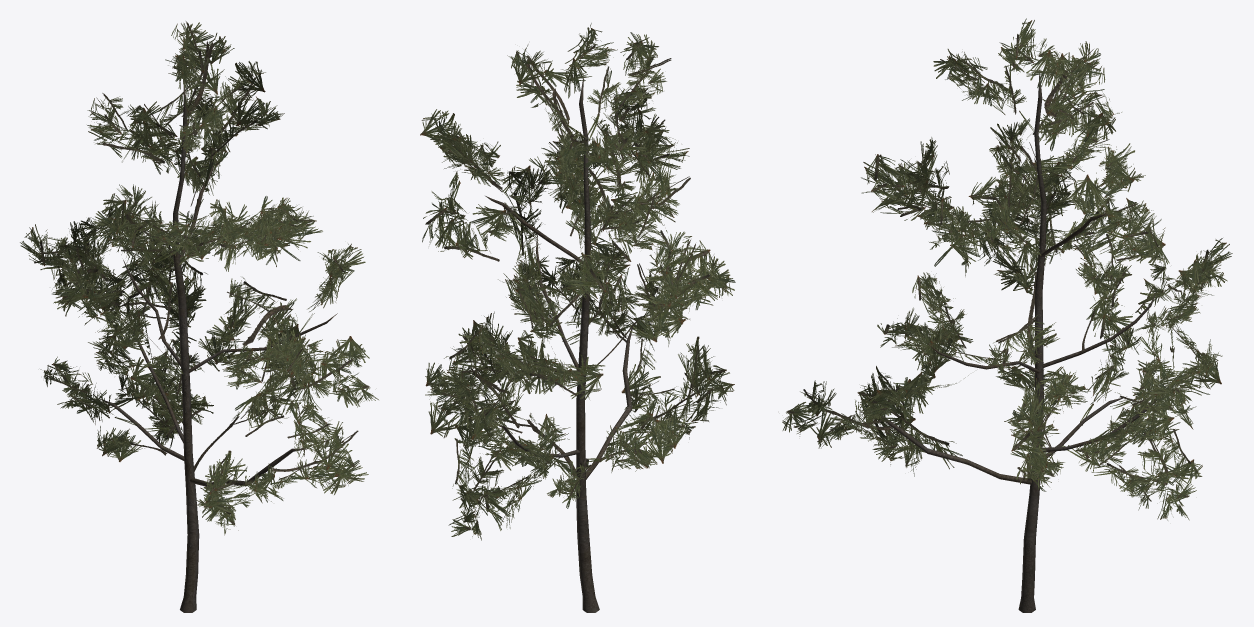
The picture shows the model from 3 angles, left to right: view 1: azimuth 30°, elevation 25°; view 2: azimuth 150°, elevation 25°; view 3: azimuth 270°, elevation 25°; orthographic projection. The views are drawn at different scales.
Parts seen in each view (by area): view 1: pine_sapling_small__b_lod0; view 2: pine_sapling_small__b_lod0; view 3: pine_sapling_small__b_lod0.
Boxes of the visible parts, x1,y1,x2,y2 form: pine_sapling_small__b_lod0: (20, 21, 378, 612); pine_sapling_small__b_lod0: (420, 23, 735, 612); pine_sapling_small__b_lod0: (782, 18, 1232, 612).
Bounding box in the file's own units: 0.559 × 1.06 × 0.7506.
2 materials, 2 textured.
